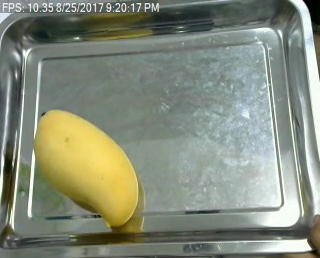Mango: (35, 108, 140, 228)
